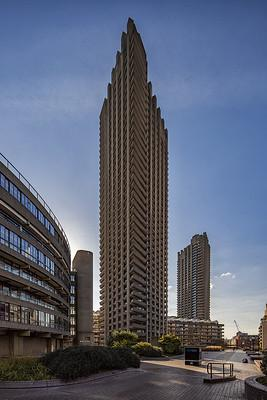building: (93, 12, 170, 352), (176, 228, 213, 352)
